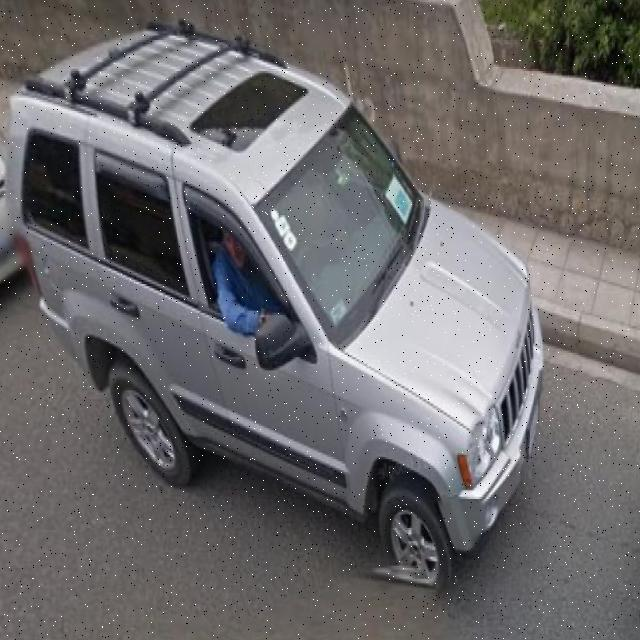car: (13, 30, 540, 581)
